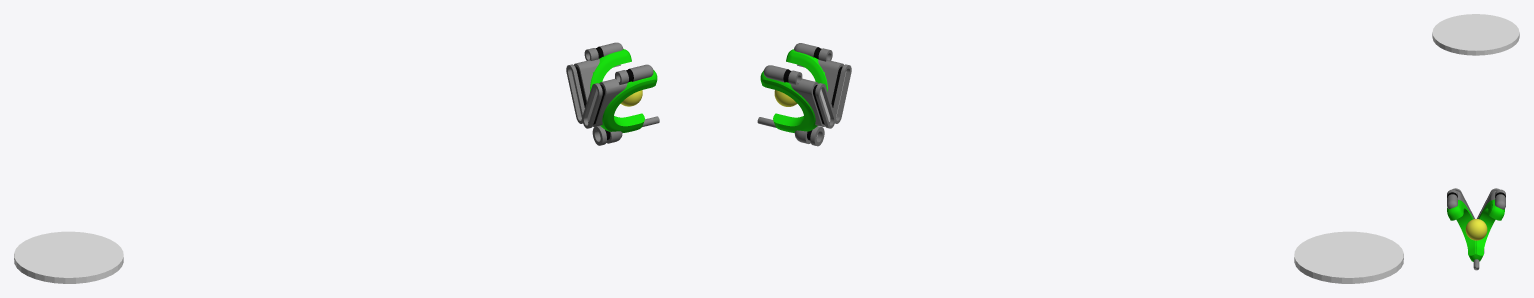
Rendered from geschoss-barol-role.fbx.
3 views of the same model, side by side, from view 1: azimuth 30°, elevation 25°; view 2: azimuth 150°, elevation 25°; view 3: azimuth 270°, elevation 25° (orthographic). The views are drawn at different scales.
Parts seen in each view (by area): view 1: Cylinder, Cube.014, Cylinder.001, Cube.012, Cube.013; view 2: Cylinder, Cube.014, Cylinder.001, Cube.013, Cube.012, Cube.010; view 3: Cylinder, Cylinder.001, Cube.009, Cube.014, Cube.013, Cube.012, Cylinder.003.
Part boxes in pixels (x1,y1,x2,y2): Cylinder: (14, 231, 123, 283); Cube.014: (566, 59, 627, 128); Cylinder.001: (590, 49, 657, 132); Cube.012: (615, 64, 653, 84); Cube.013: (584, 42, 623, 60); Cylinder: (1294, 231, 1403, 283); Cube.014: (790, 59, 851, 128); Cylinder.001: (760, 49, 827, 132); Cube.013: (763, 65, 802, 85); Cube.012: (794, 43, 832, 61); Cube.010: (794, 126, 824, 146); Cylinder: (1432, 14, 1519, 55); Cylinder.001: (1447, 199, 1504, 261); Cube.009: (1465, 219, 1487, 240); Cube.014: (1452, 188, 1499, 218); Cube.013: (1495, 189, 1505, 209); Cube.012: (1447, 189, 1457, 208); Cylinder.003: (1473, 259, 1479, 270).
Bounding box in the file's own units: 1359 × 200 × 200.
